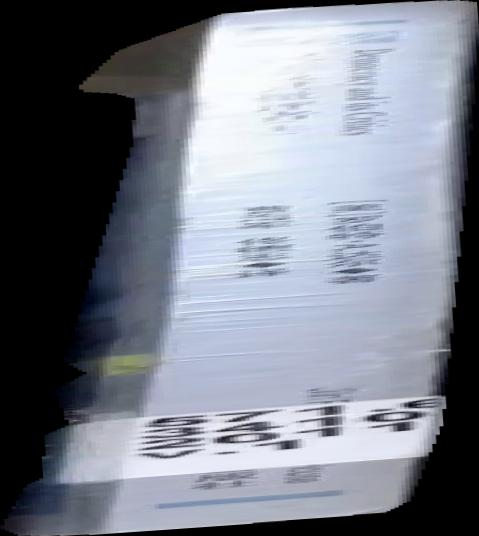book: (1, 1, 479, 536)
